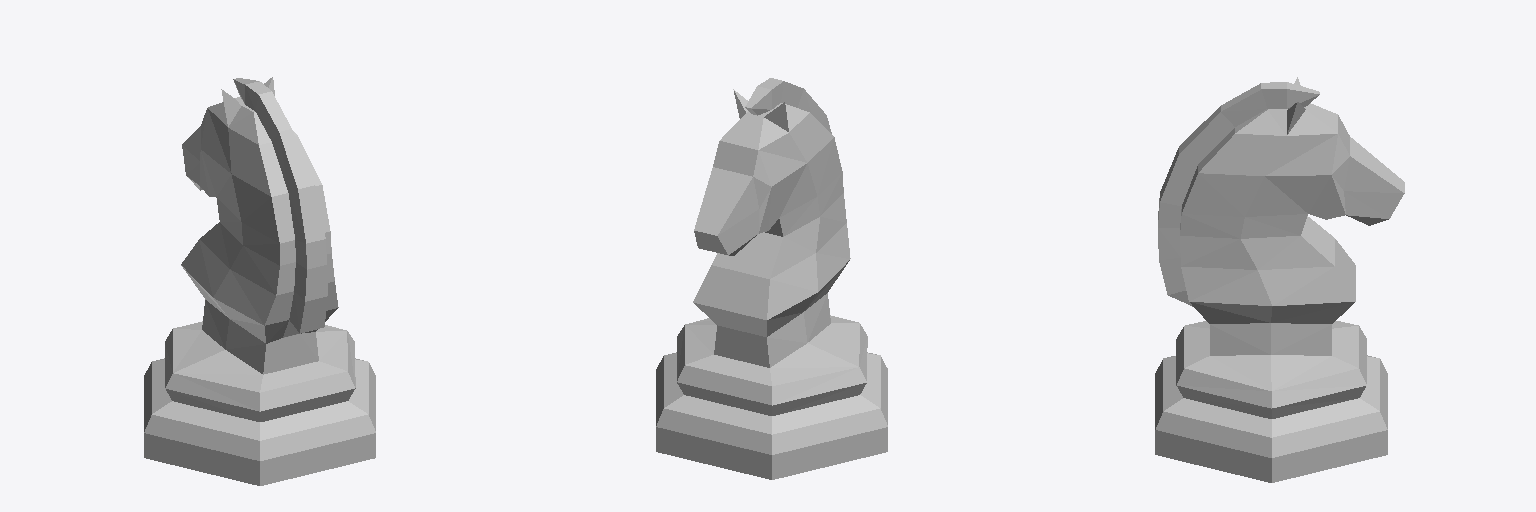
The model's file is caballoB.obj.
The picture shows the model from 3 angles: view 1: azimuth 30°, elevation 25°; view 2: azimuth 150°, elevation 25°; view 3: azimuth 270°, elevation 25°; orthographic projection.
Parts seen in each view (by area): view 1: polySurface16 polySurface15 polySurface12 polySurface9 polySurfa; view 2: polySurface16 polySurface15 polySurface12 polySurface9 polySurfa; view 3: polySurface16 polySurface15 polySurface12 polySurface9 polySurfa.
Part boxes in pixels (x1,y1,x2,y2): polySurface16 polySurface15 polySurface12 polySurface9 polySurfa: (144,77,375,485); polySurface16 polySurface15 polySurface12 polySurface9 polySurfa: (656,78,887,479); polySurface16 polySurface15 polySurface12 polySurface9 polySurfa: (1155,77,1404,482).
Size of the model in its own units: 0.8957 by 1.26 by 0.8316.